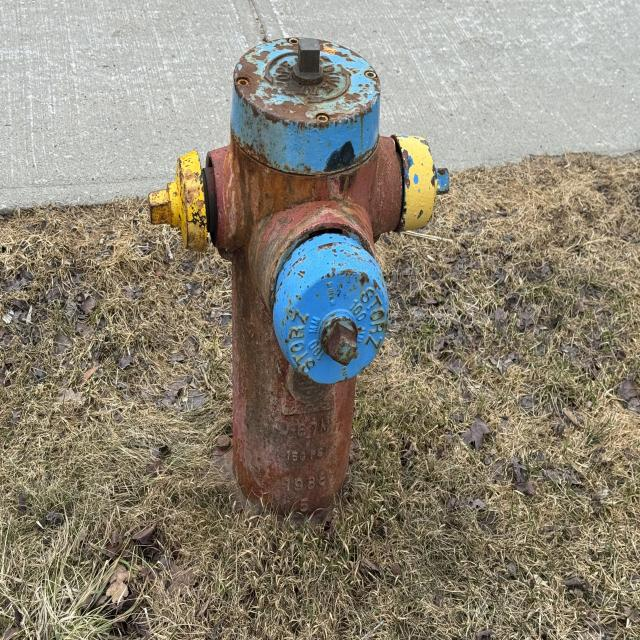Fire hydrant: (146, 32, 451, 538)
